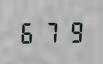nine: (63, 19, 84, 43)
seven: (41, 20, 62, 43)
six: (18, 20, 39, 44)
